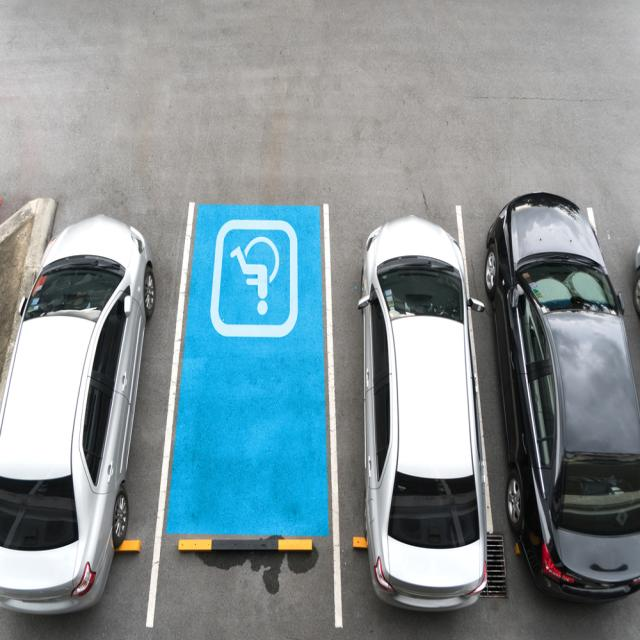discapacitados: (194, 198, 329, 548)
ocupado: (494, 186, 640, 638), (0, 192, 153, 608), (336, 195, 486, 616)
